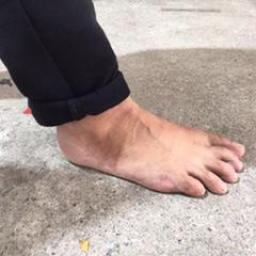Lateral View -Right Foot-: (38, 67, 250, 209)
